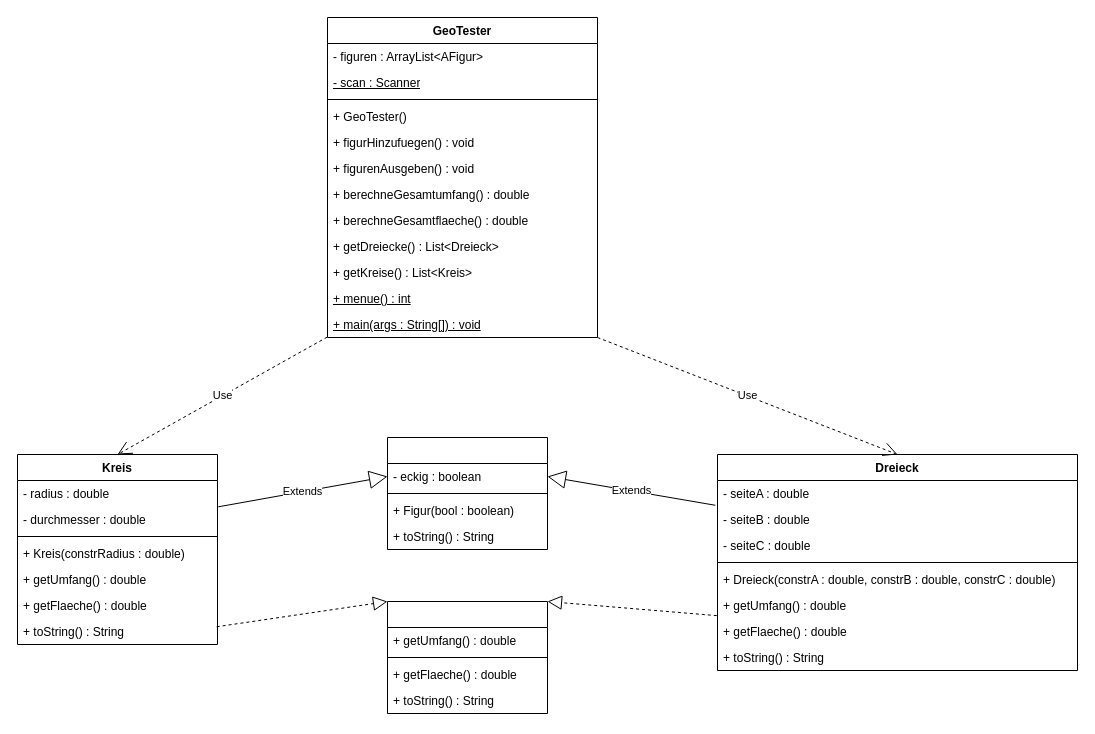
Image size: 1095x734. Some labels were removed from this diagram. The shapes that lost their labels are listed below. From the top down, each one's box as (x1, y1, x2, y2) in pixels, then its label:
(386, 436, 548, 550): <<abstract>> AFigur
(386, 600, 548, 714): <<interface>> FigurHelper
